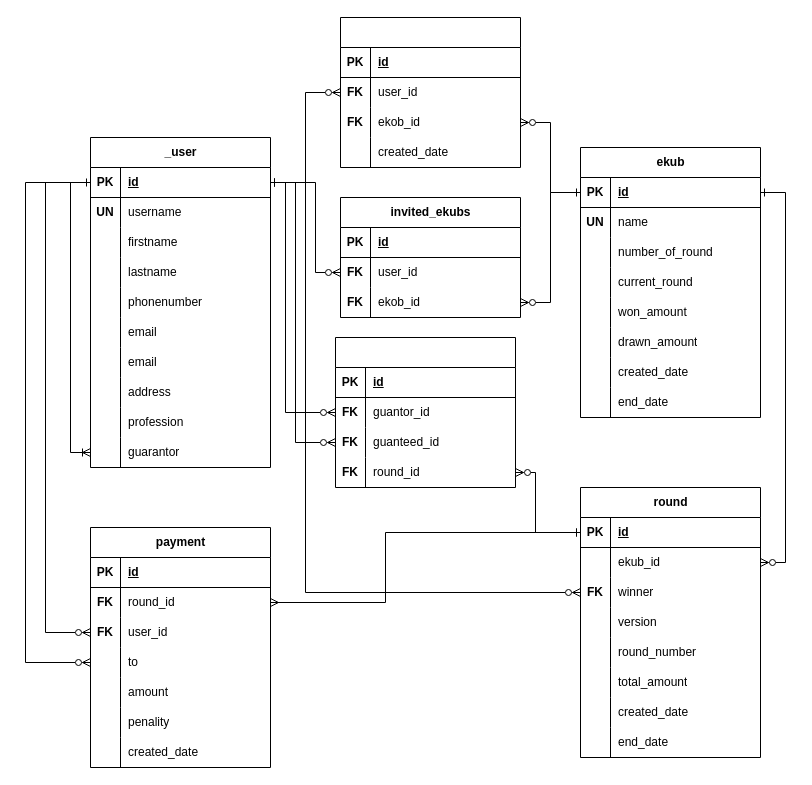
Some shapes in this 812 by 785 pixel diagram are drawn without their labels. Each missing label, with the box of its shape:
ekub_user: (340, 16, 520, 168)
user_guarantee: (334, 336, 516, 488)
